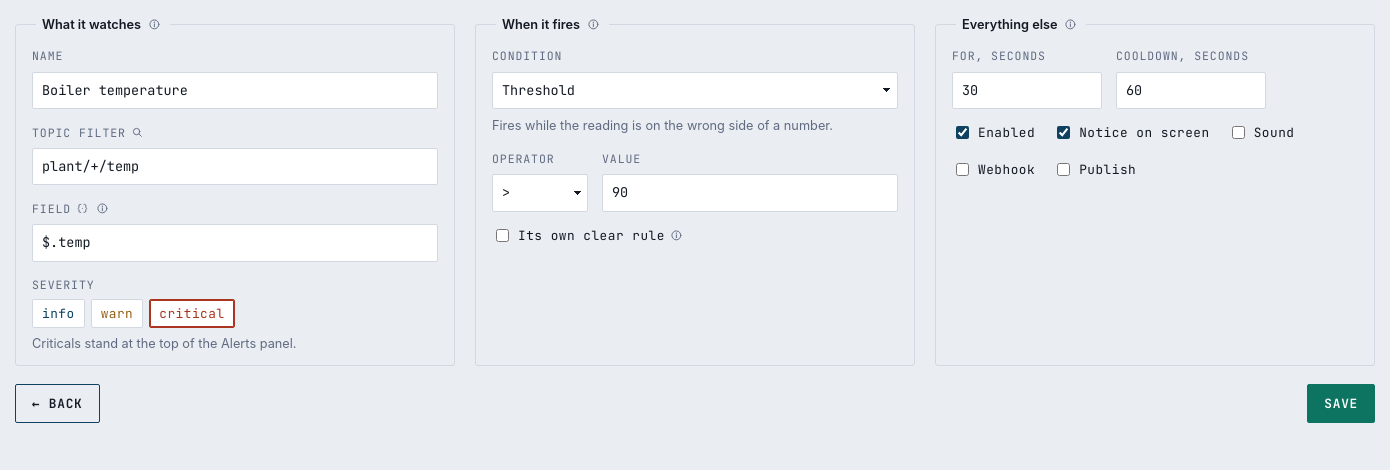
Test: what the editor refuses before the request › refuses a window below the range the engine judges anything on
Select "Drift" in the dropdown labelled "Condition" at (695, 90), box [492,72,898,109]
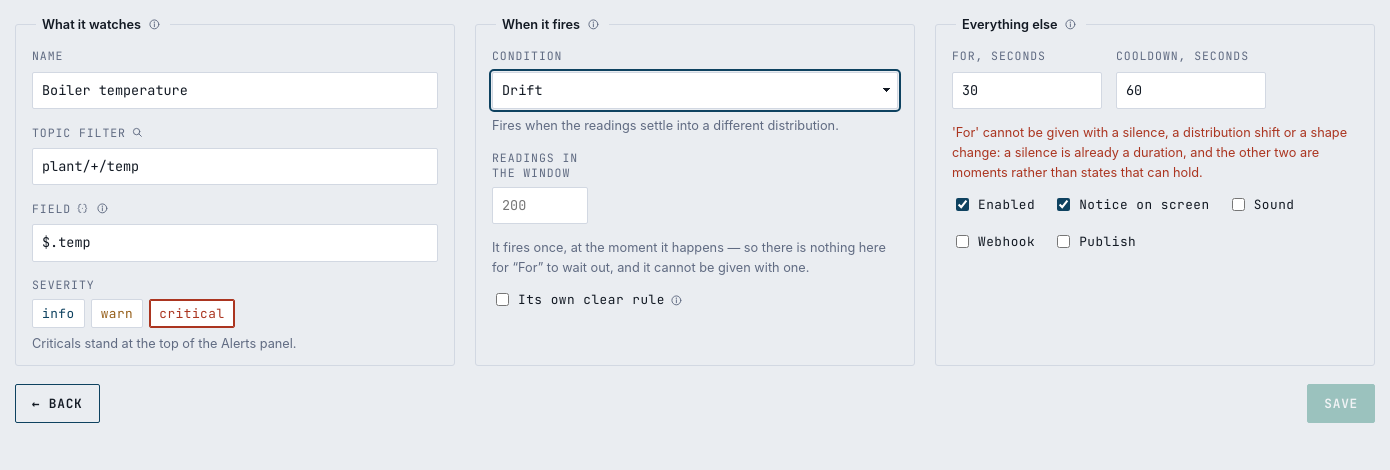
Type "10" into the field labelled "Readings in the window" at (540, 205), box [492,187,588,224]
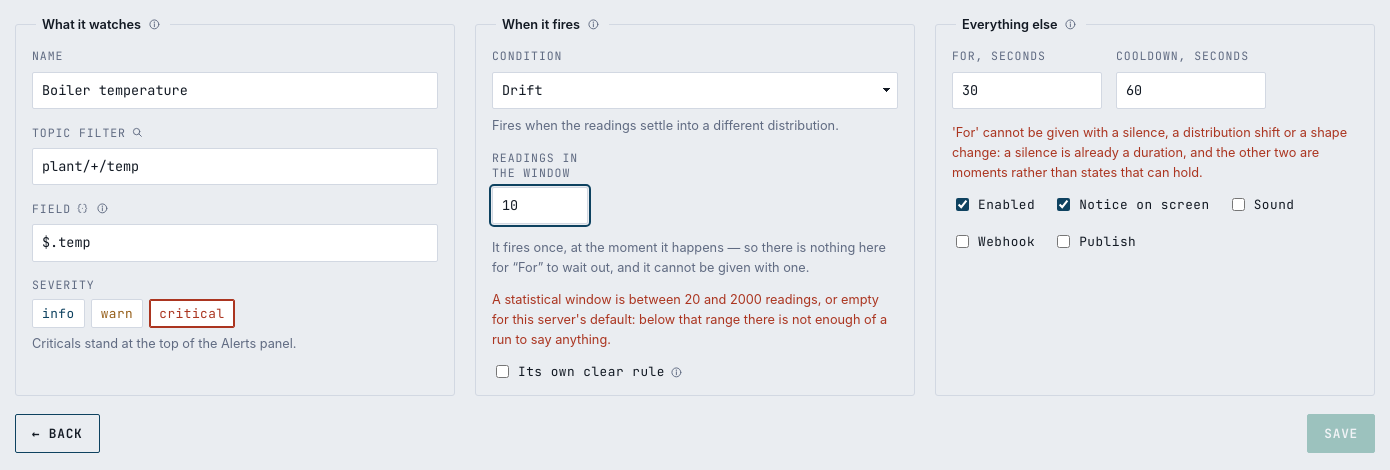
Now the button "Save" is disabled, box [1307,414,1375,453]
Now the text "between 20 and 2000 readings" is shown, box [492,292,887,347]
